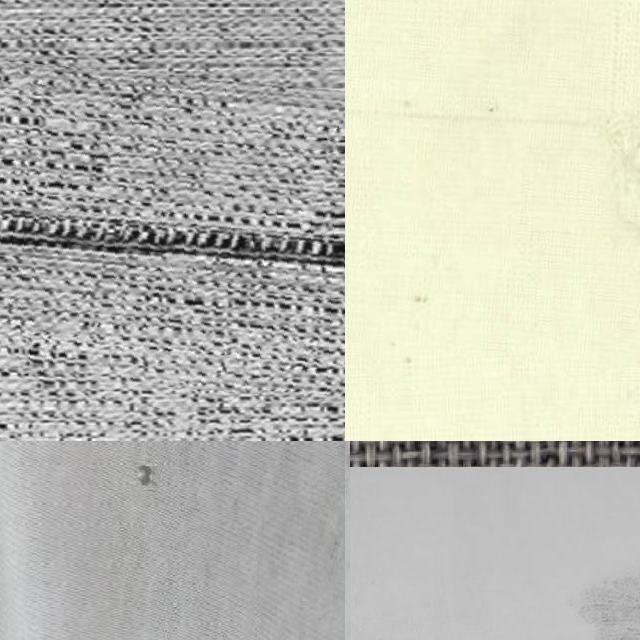Thread_other: (473, 480, 640, 640)
other: (129, 450, 161, 496)
stains: (0, 71, 345, 408), (345, 0, 640, 373)
